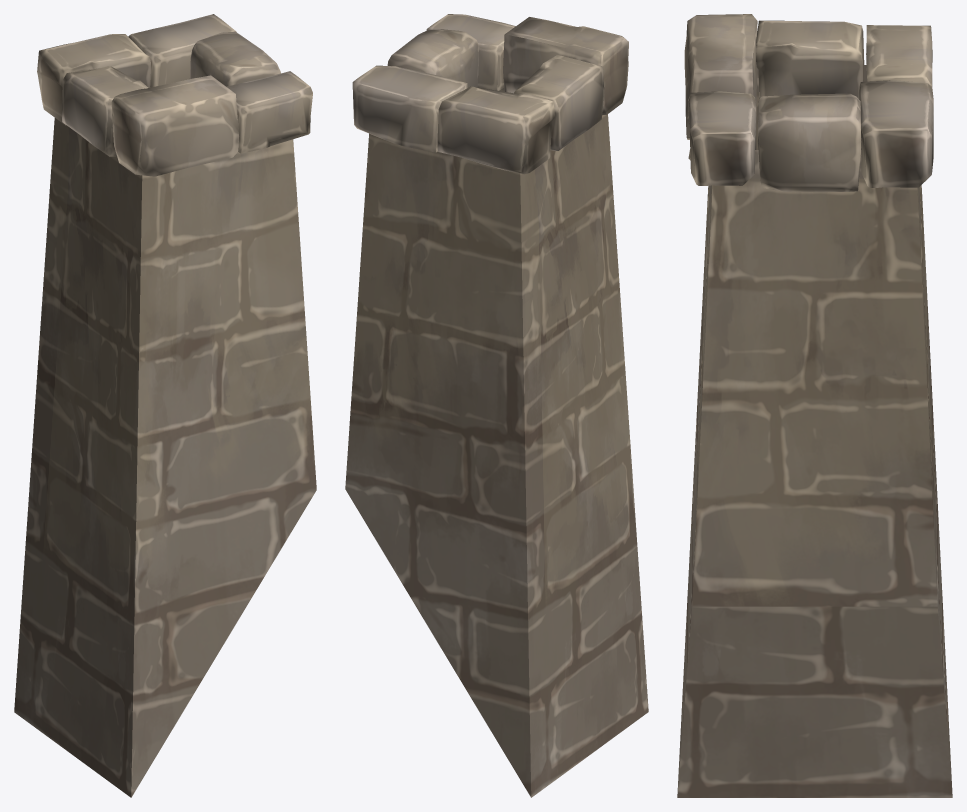
3 renders of one model, left to right at view 1: azimuth 30°, elevation 25°; view 2: azimuth 150°, elevation 25°; view 3: azimuth 270°, elevation 25°, orthographic. The views are drawn at different scales.
Parts seen in each view (by area): view 1: Prop_Chimney; view 2: Prop_Chimney; view 3: Prop_Chimney.
Boxes of the visible parts, bbox=[...] form: Prop_Chimney: bbox=[14, 14, 316, 797]; Prop_Chimney: bbox=[345, 14, 648, 797]; Prop_Chimney: bbox=[677, 14, 952, 797].
Bounding box in the file's own units: 0.9458 × 3.18 × 1.
2 materials, 2 textured.
